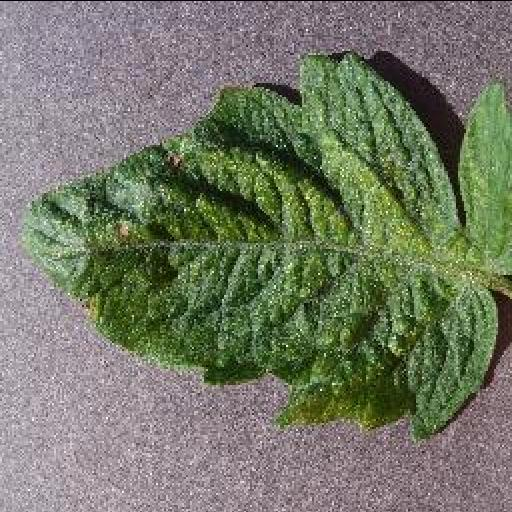disease_tomato: (26, 50, 512, 442)
